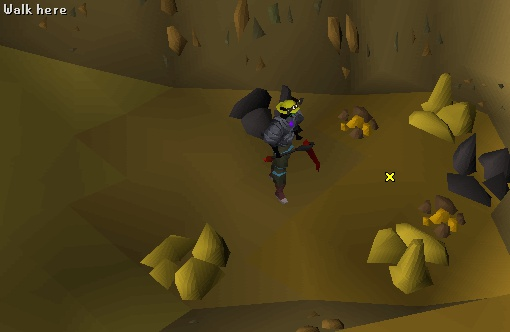gold: (127, 216, 244, 313), (341, 210, 458, 307), (383, 62, 500, 159)
